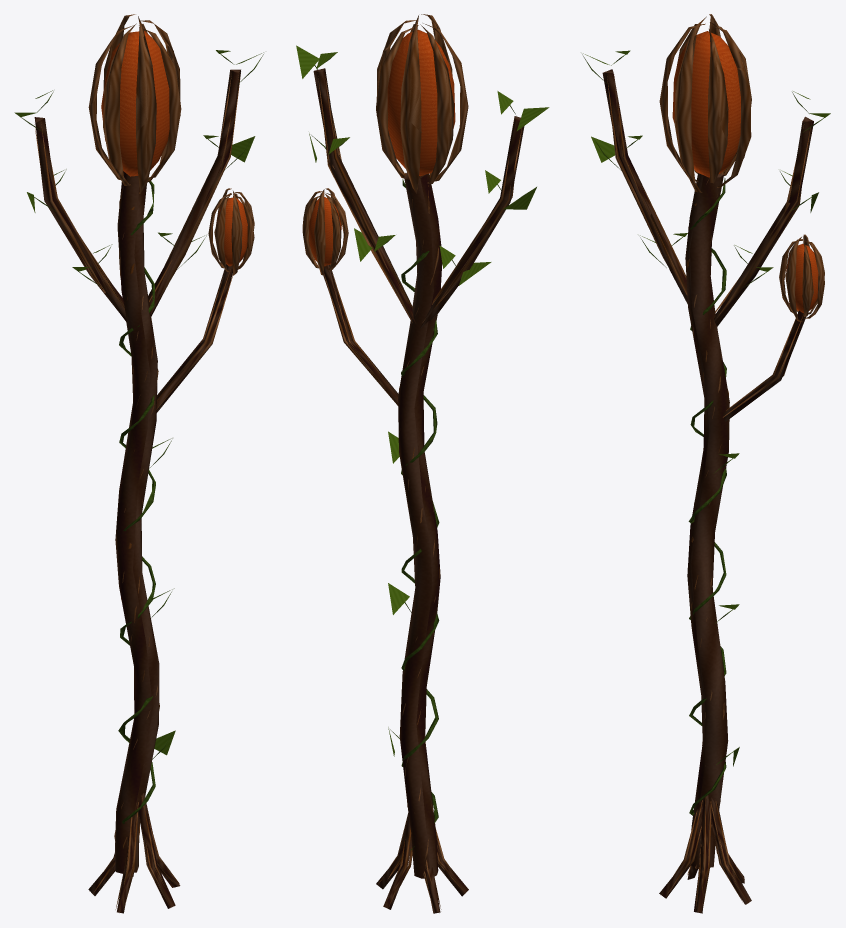
3 views of the same model, side by side, from view 1: azimuth 30°, elevation 25°; view 2: azimuth 150°, elevation 25°; view 3: azimuth 330°, elevation 25° (orthographic).
Parts seen in each view (by area): view 1: Twisted_living_shaft, Amber_sap_heart, Crown_branch.001, Pointed_split_seed_husk.005, Crown_branch, Pointed_split_seed_husk.004, Climbing_green_vine, Secondary_seed_branch, Pointed_split_seed_husk.006, Pointed_split_seed_husk.003, Root_foot.004, Amber_sap_heart.001 (+5 smaller); view 2: Twisted_living_shaft, Amber_sap_heart, Pointed_split_seed_husk.002, Crown_branch.001, Crown_branch, Pointed_split_seed_husk.003, Climbing_green_vine, Pointed_split_seed_husk.001, Secondary_seed_branch, Pointed_split_seed_husk.004, Amber_sap_heart.001, Crown_branch_twisted_bark_ridge.005 (+3 smaller); view 3: Twisted_living_shaft, Amber_sap_heart, Crown_branch.001, Pointed_split_seed_husk.006, Pointed_split_seed_husk.005, Crown_branch, Climbing_green_vine, Pointed_split_seed_husk, Secondary_seed_branch, Pointed_split_seed_husk.004, Amber_sap_heart.001, Root_foot.004 (+6 smaller).
Part boxes in pixels (x1,y1,x2,y2): Twisted_living_shaft: (114,171,159,873); Amber_sap_heart: (101,31,169,176); Crown_branch.001: (148,69,240,316); Pointed_split_seed_husk.005: (136,16,156,193); Crown_branch: (34,117,126,321); Pointed_split_seed_husk.004: (103,23,136,185); Climbing_green_vine: (118,179,155,823); Secondary_seed_branch: (156,264,232,412); Pointed_split_seed_husk.006: (143,29,181,178); Pointed_split_seed_husk.003: (88,25,134,179); Root_foot.004: (138,793,175,908); Amber_sap_heart.001: (217,197,247,266); Twisted_living_shaft: (398,172,442,878); Amber_sap_heart: (387,29,455,176); Pointed_split_seed_husk.002: (400,15,421,193); Crown_branch.001: (313,68,415,323); Crown_branch: (419,116,524,328); Pointed_split_seed_husk.003: (420,24,454,183); Climbing_green_vine: (401,179,439,850); Pointed_split_seed_husk.001: (376,27,413,178); Secondary_seed_branch: (323,264,398,403); Pointed_split_seed_husk.004: (423,23,468,181); Amber_sap_heart.001: (309,197,341,266); Crown_branch_twisted_bark_ridge.005: (325,76,412,322); Twisted_living_shaft: (685,172,729,868); Amber_sap_heart: (672,31,740,177); Crown_branch.001: (714,116,813,326); Pointed_split_seed_husk.006: (708,29,728,183); Pointed_split_seed_husk.005: (674,16,706,192); Crown_branch: (602,69,687,303); Climbing_green_vine: (688,178,726,815); Pointed_split_seed_husk: (710,22,751,187); Secondary_seed_branch: (723,310,806,421); Pointed_split_seed_husk.004: (659,23,705,182); Amber_sap_heart.001: (786,243,818,313); Root_foot.004: (694,795,710,913).
Size of the model in its own units: 0.614 by 2.04 by 0.197.
5 materials, 5 textured.
